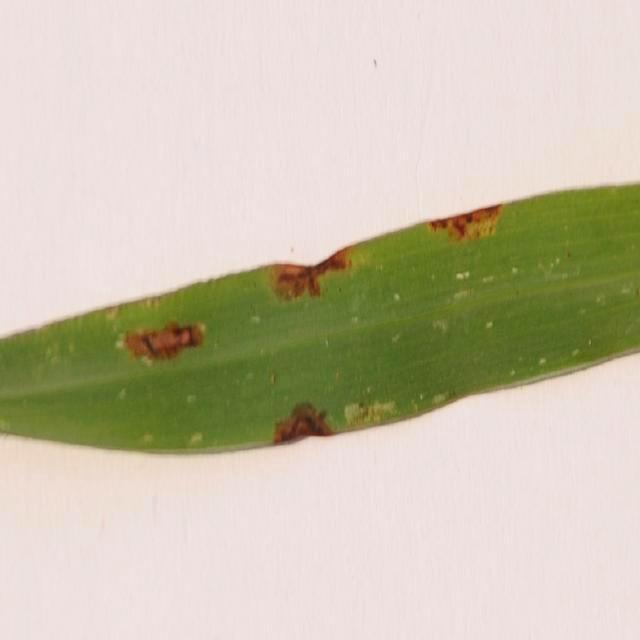Brownspot: (272, 248, 350, 299), (124, 323, 202, 359), (427, 204, 502, 240), (273, 403, 331, 443)
